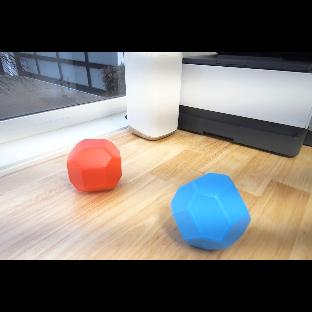V5_BLUE: (171, 172, 252, 252)
V5_RED: (67, 137, 124, 194)
